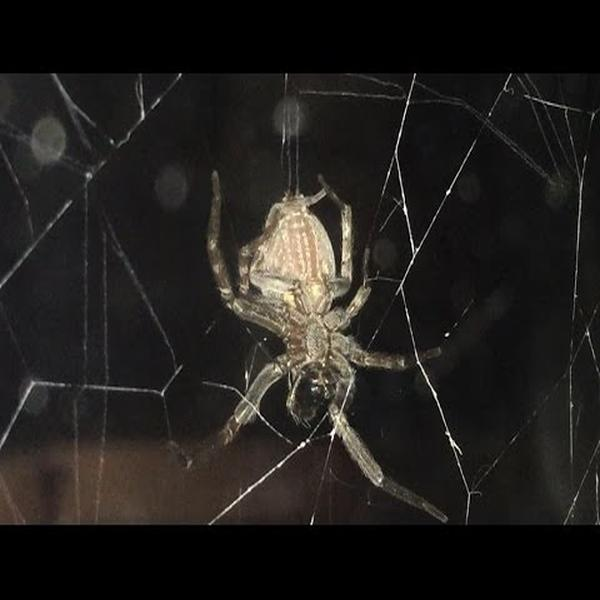Garden_Orb_Weaver_Spider: (204, 170, 450, 523)
